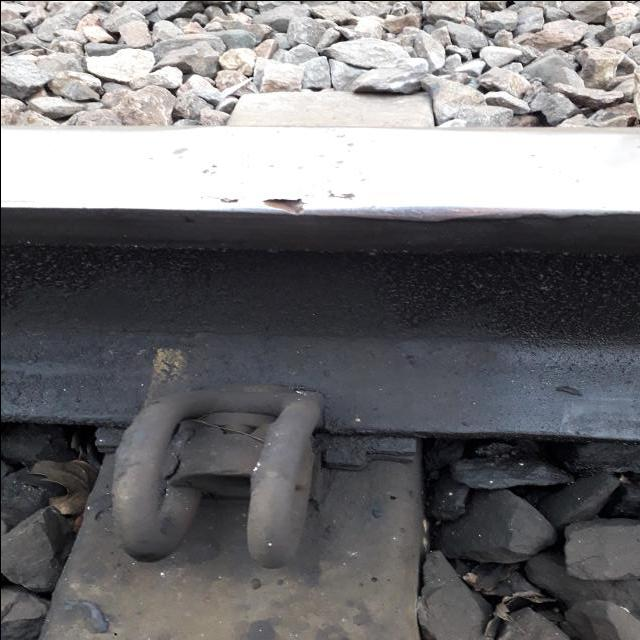broken_rail_medium: (261, 196, 305, 215), (324, 187, 356, 201), (332, 131, 354, 147), (200, 163, 218, 175), (171, 145, 188, 157), (218, 196, 238, 203), (334, 158, 344, 166)
